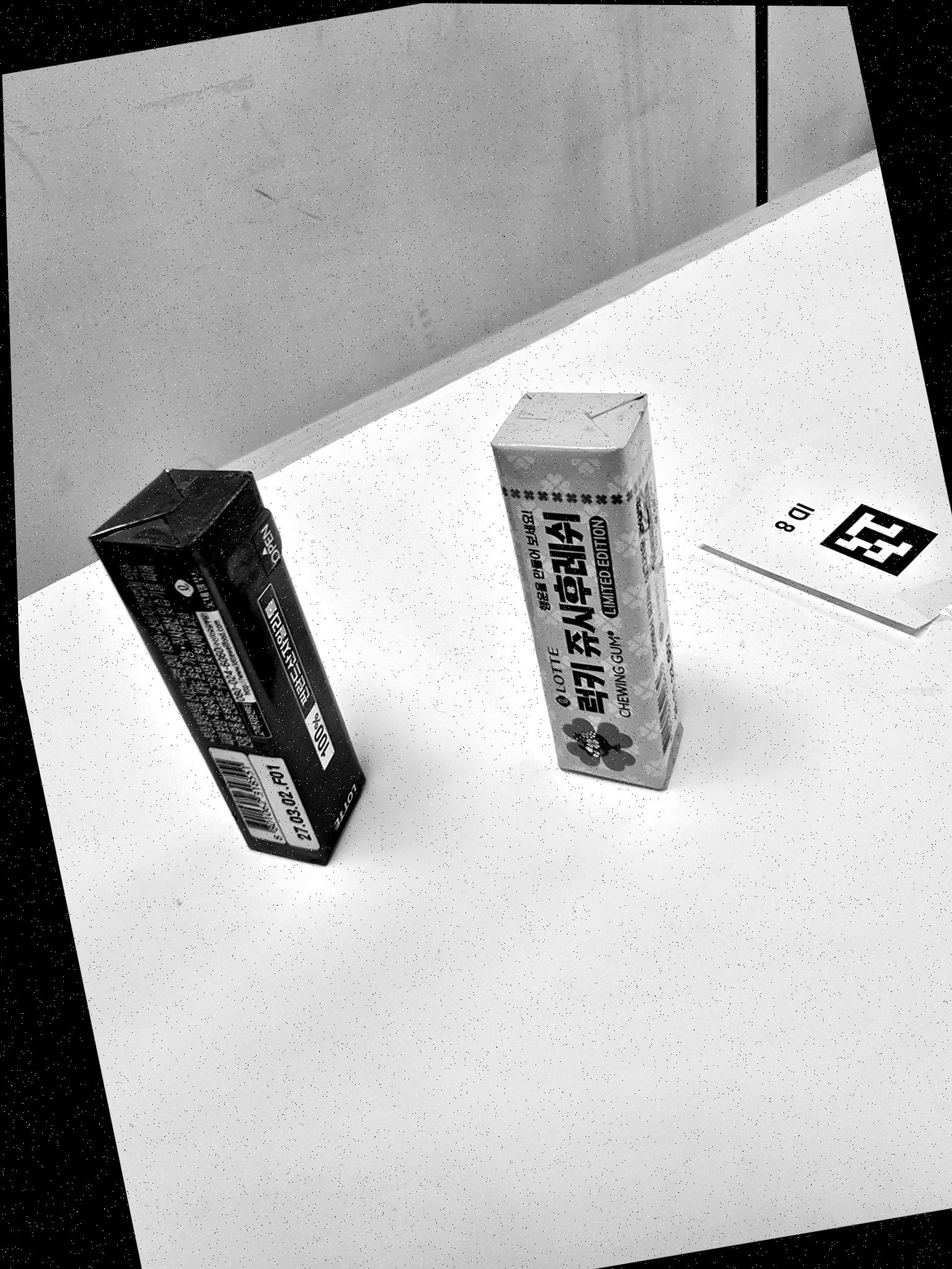gum_green: (89, 467, 366, 866)
gum_yellow: (490, 391, 682, 789)
